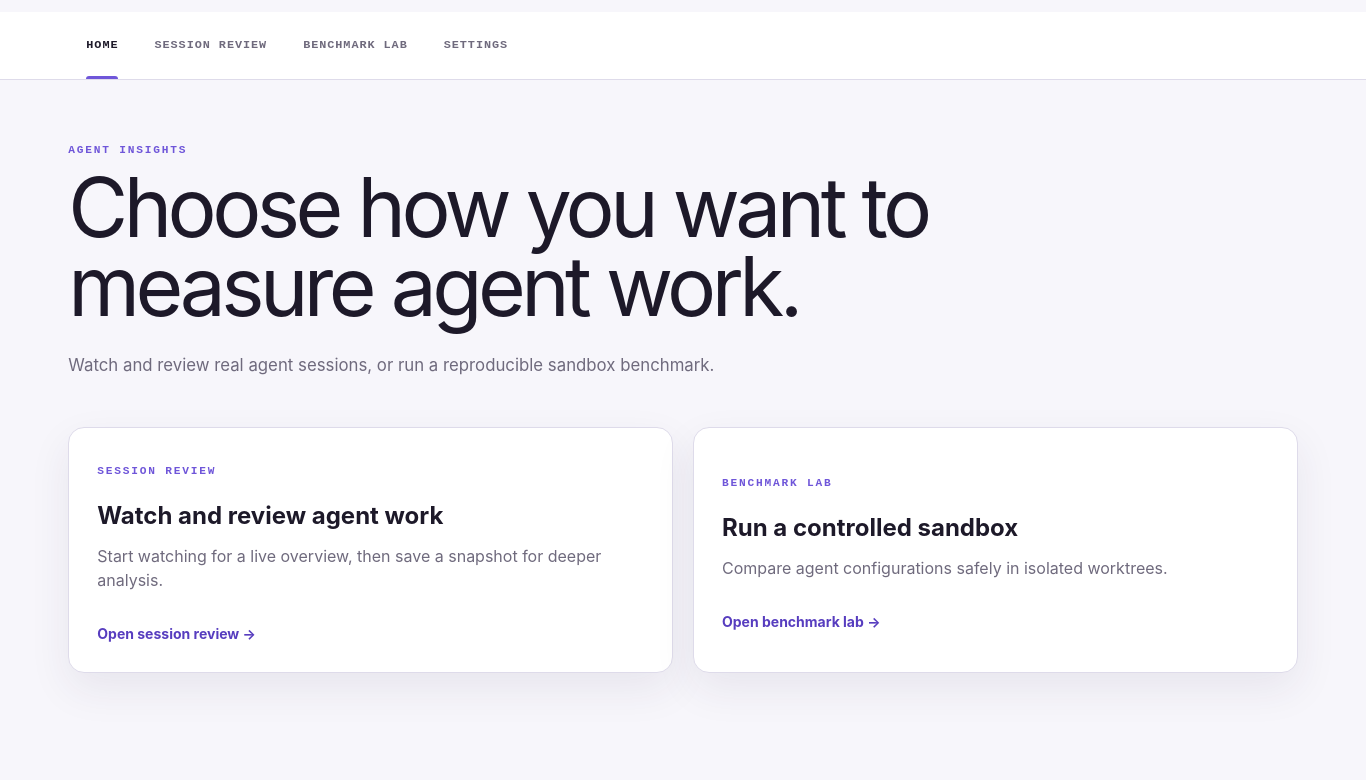
offers session review and benchmark workflows from the homepage
Click the button "Benchmark Lab": (355, 46) [285,12,426,79]
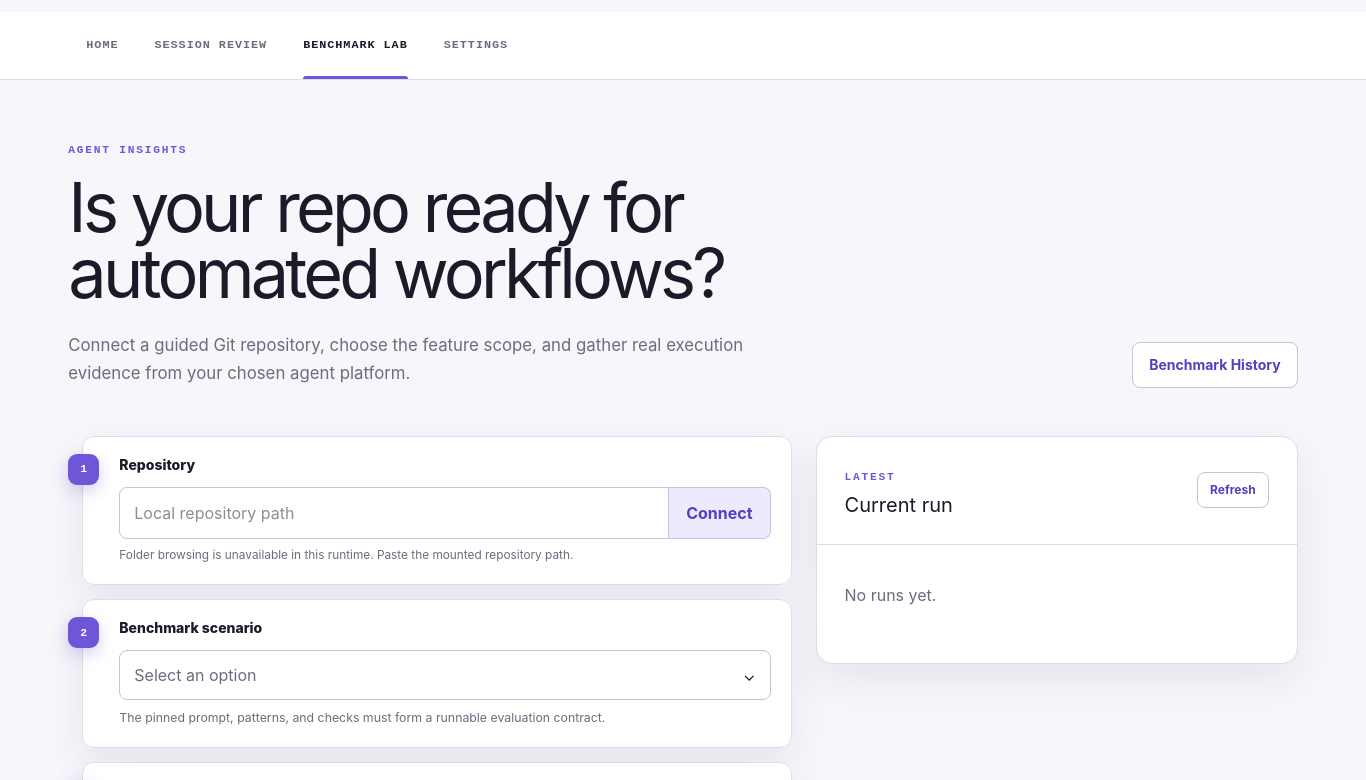
Click the button "Home": (102, 46) [68,12,136,79]
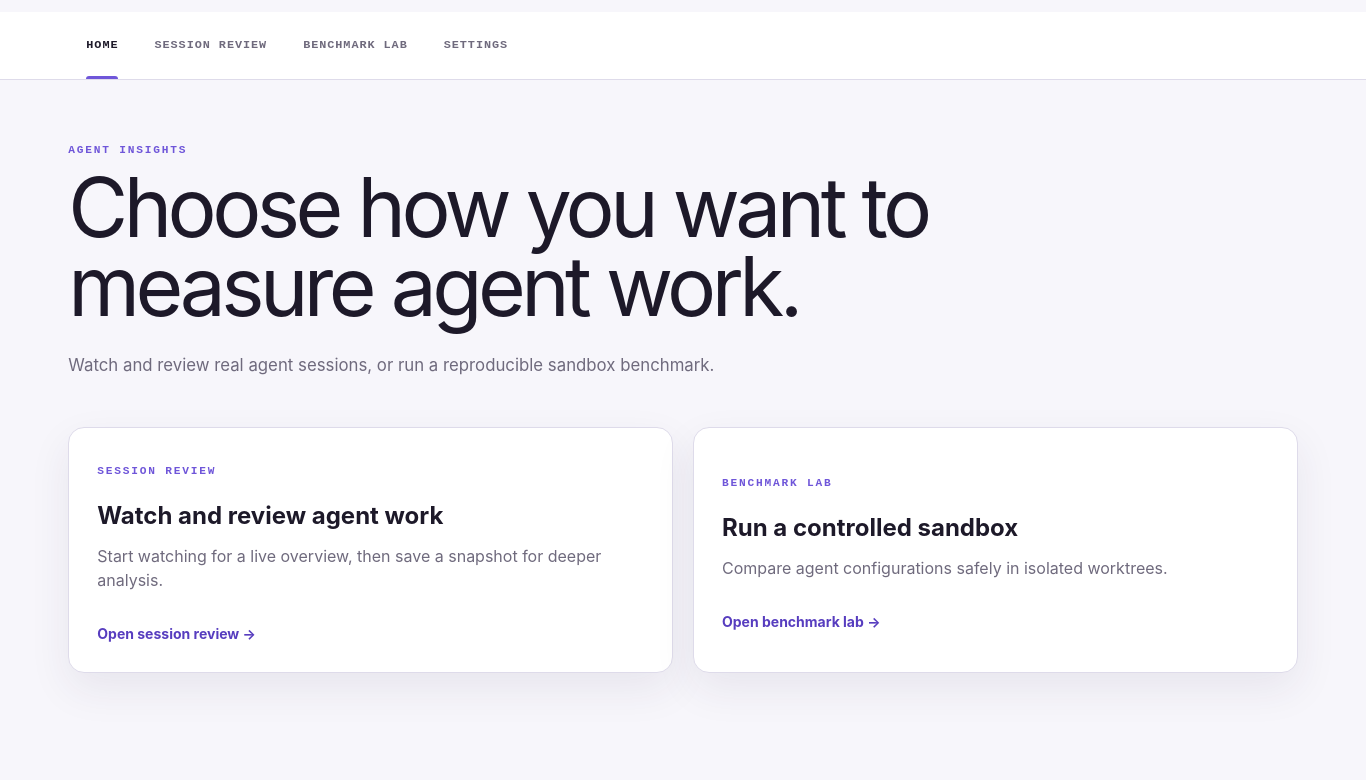
Expected: the button "Watch and review agent work" is shown
Expected: the button "Run a controlled sandbox" is shown, [693,427,1298,673]
Click the button "Watch and review agent work": (371, 550) [68,427,673,673]
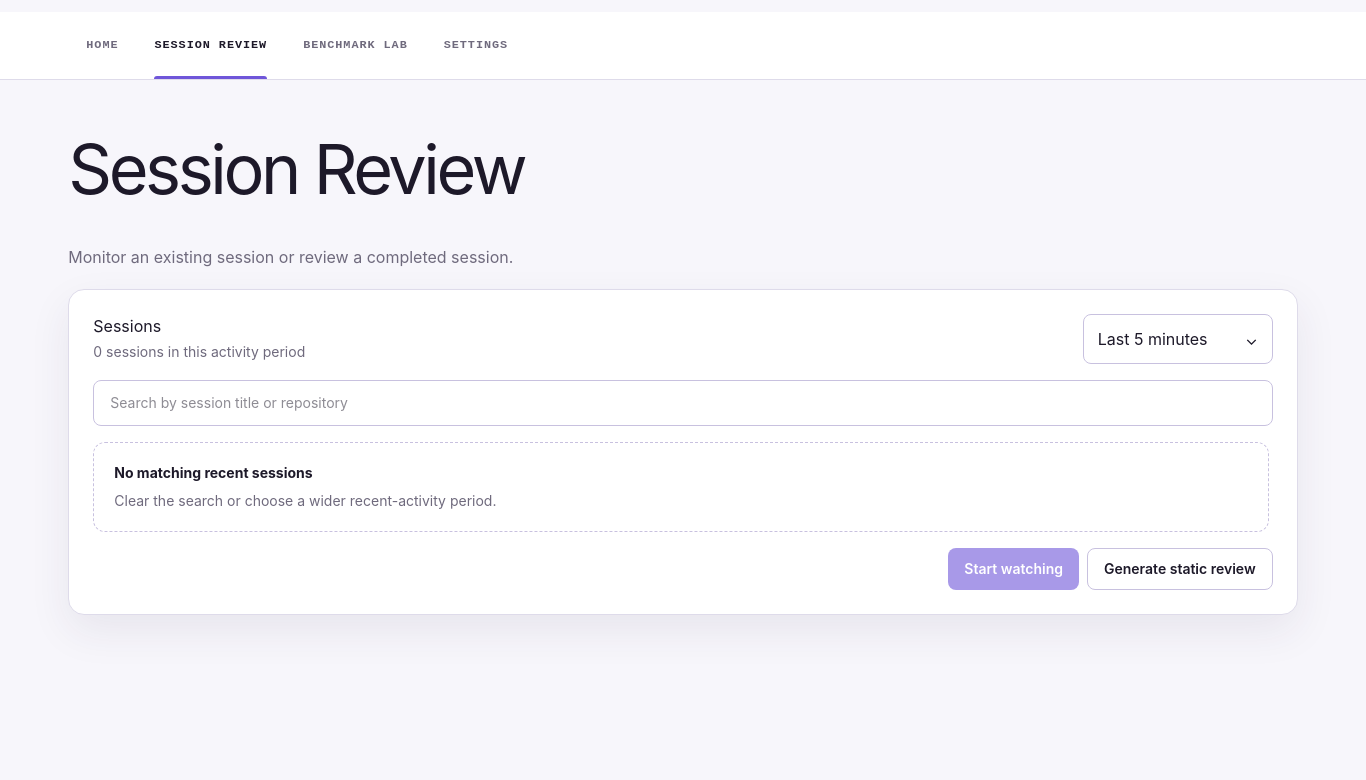
Expected: the heading "Session Review" is shown, [68,128,524,210]
Expected: the text "Monitor an existing session or review a completed session." is shown, [68,247,513,267]
